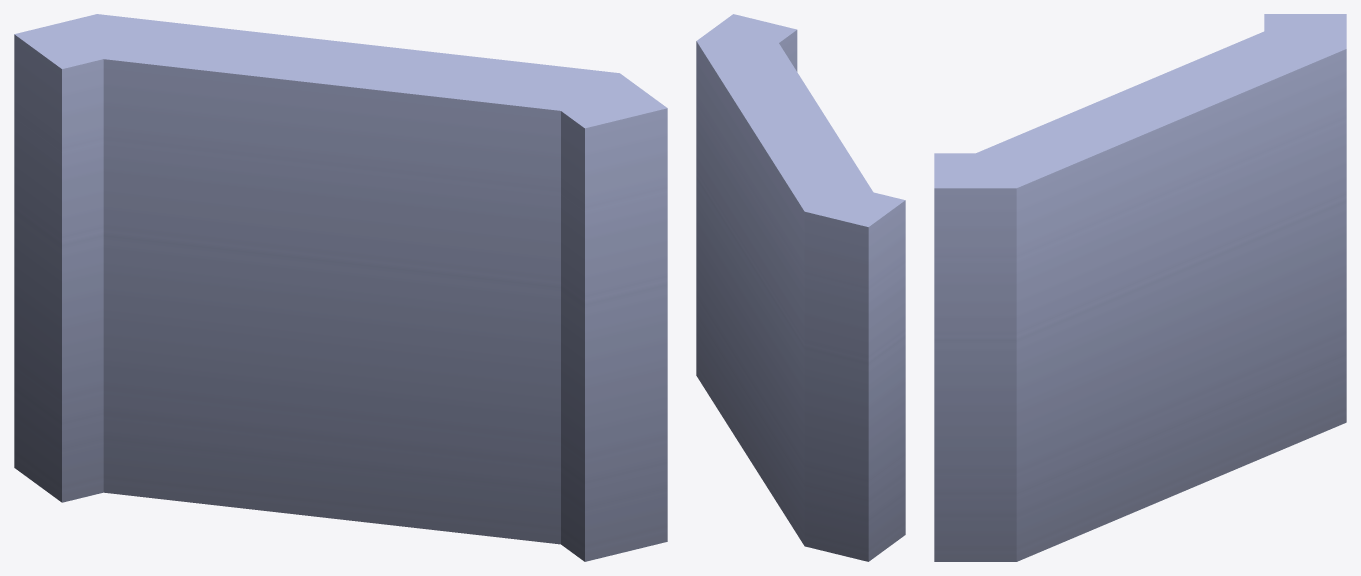
The model's file is wall-diagonal.fbx.
The picture shows the model from 3 angles, left to right: view 1: azimuth 30°, elevation 25°; view 2: azimuth 150°, elevation 25°; view 3: azimuth 270°, elevation 25°; orthographic projection. The views are drawn at different scales.
Parts seen in each view (by area): view 1: wall-diagonal; view 2: wall-diagonal; view 3: wall-diagonal.
Boxes of the visible parts, left/top/right/bottom form: wall-diagonal: left=14, top=14, right=667, bottom=561; wall-diagonal: left=696, top=14, right=905, bottom=561; wall-diagonal: left=934, top=14, right=1346, bottom=561.
Bounding box in the file's own units: 100 × 100 × 100.
